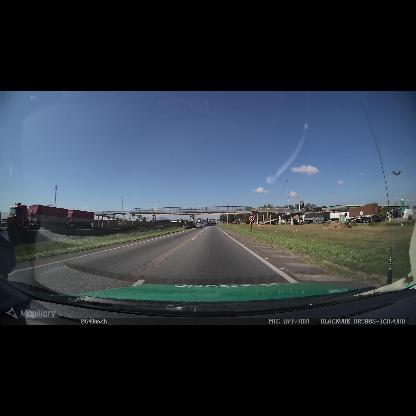R-6c: (248, 215, 255, 222)
